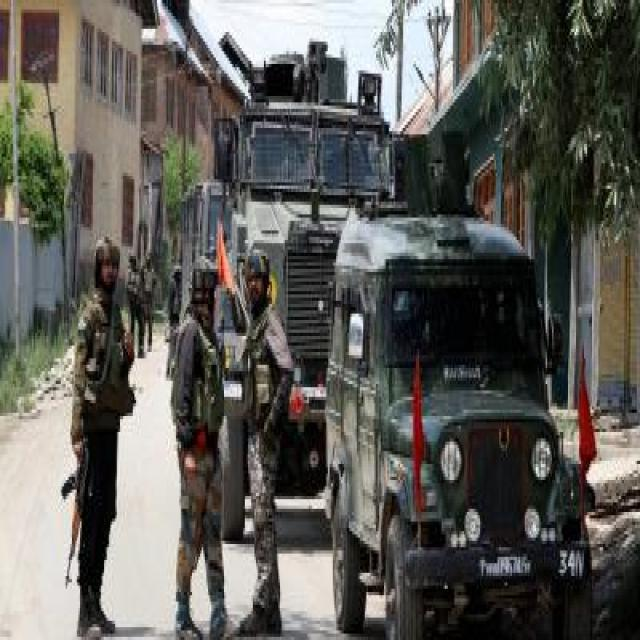military-plate: (475, 548, 533, 583)
